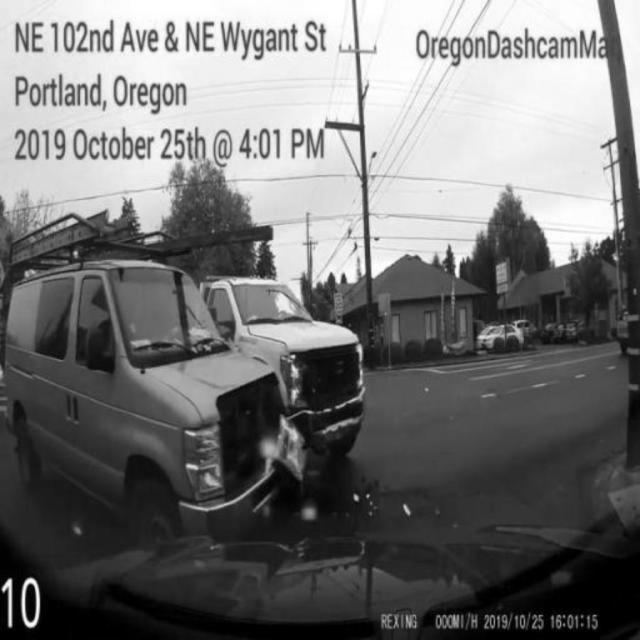accident: (4, 262, 362, 528)
vehicle: (481, 321, 529, 355)
